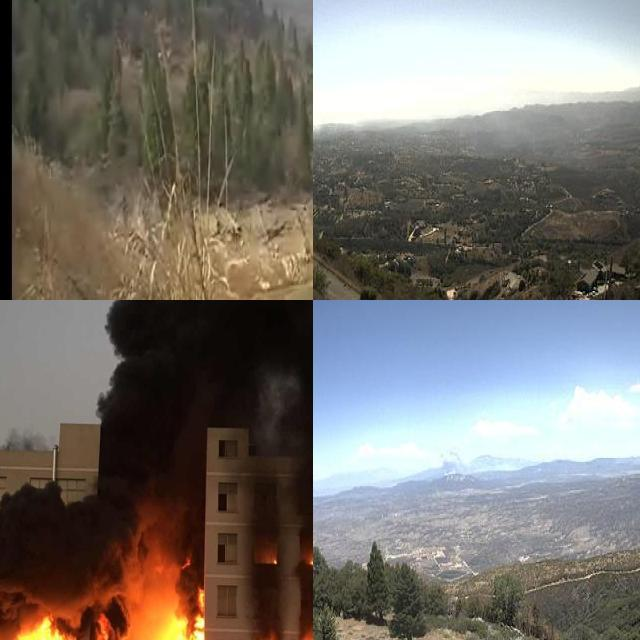fire: (6, 613, 122, 640), (150, 605, 207, 640), (304, 544, 313, 572)
smoke: (0, 300, 313, 598), (438, 454, 477, 485)
